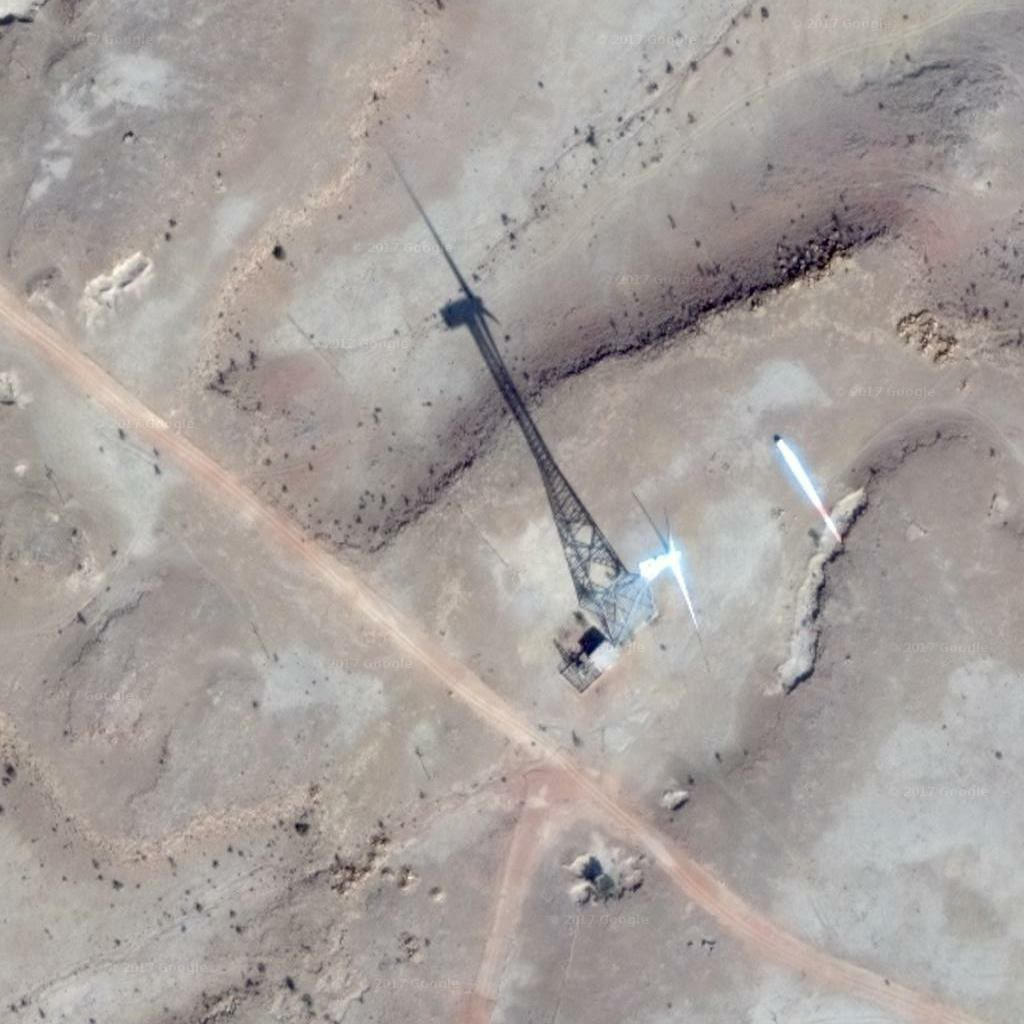Windmill: (374, 161, 645, 617)
